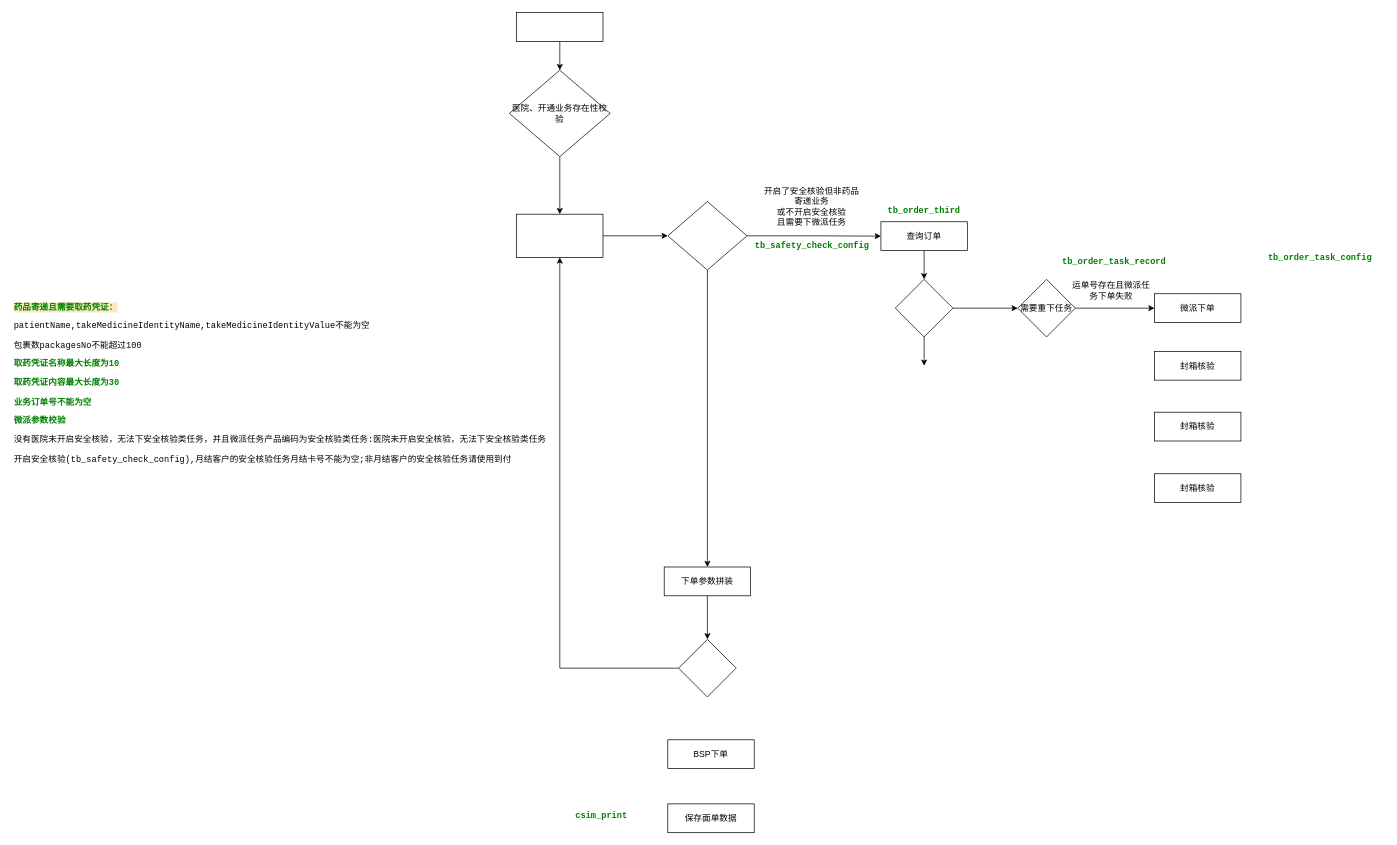
Some shapes in this 1397 by 845 pixel diagram are drawn without their labels. Here are the shapes that lost their labels. From the top down, the centre of each, then its label:
point 559,26: 开始
point 559,235: 遍历校验及下单
point 707,235: 是否重下微派任务
point 924,308: 订单存在
point 707,668: 参数校验
